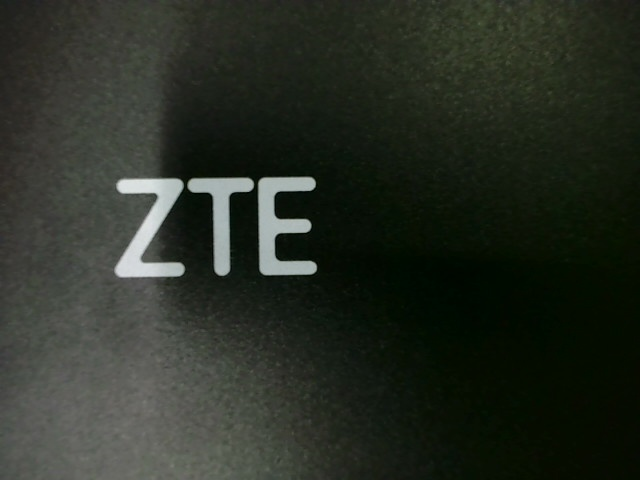AN_ZTE: (93, 168, 360, 287)
